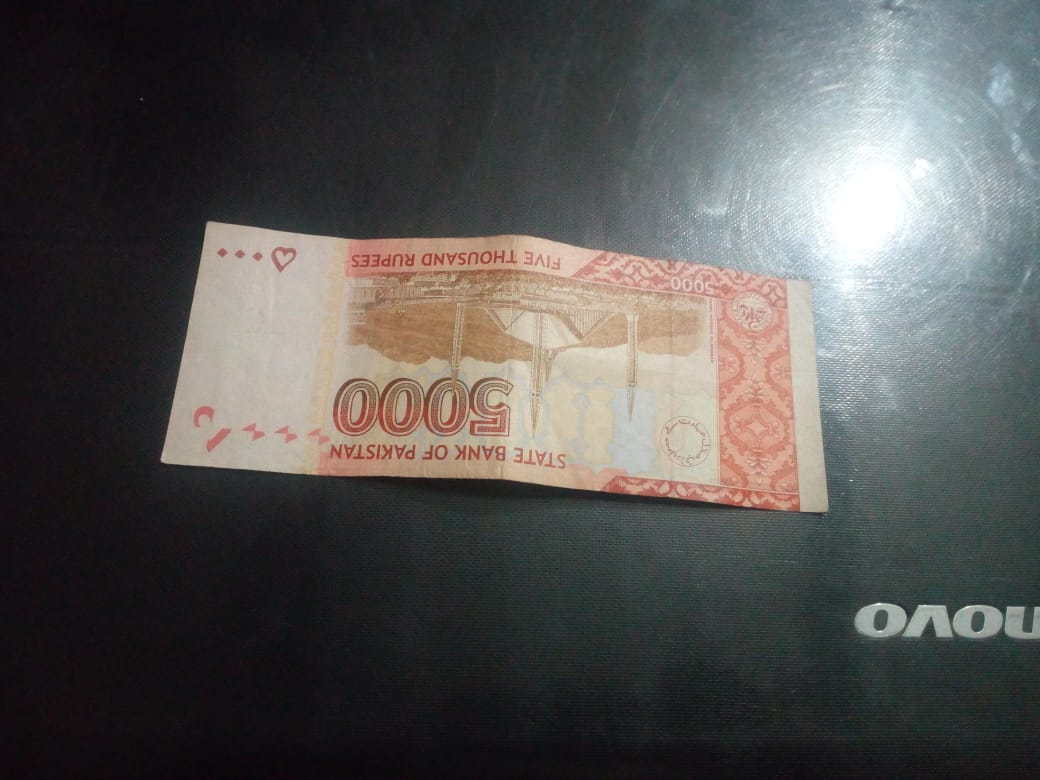5000 rupee: (153, 202, 860, 518)
